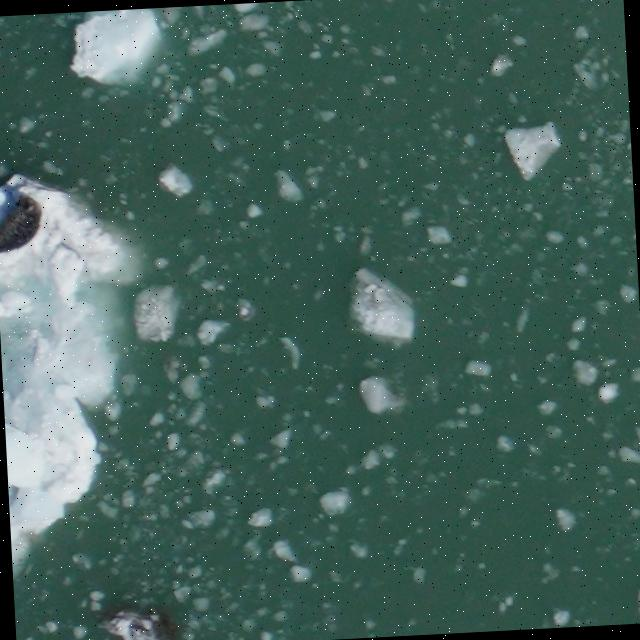seal: (0, 191, 50, 259)
